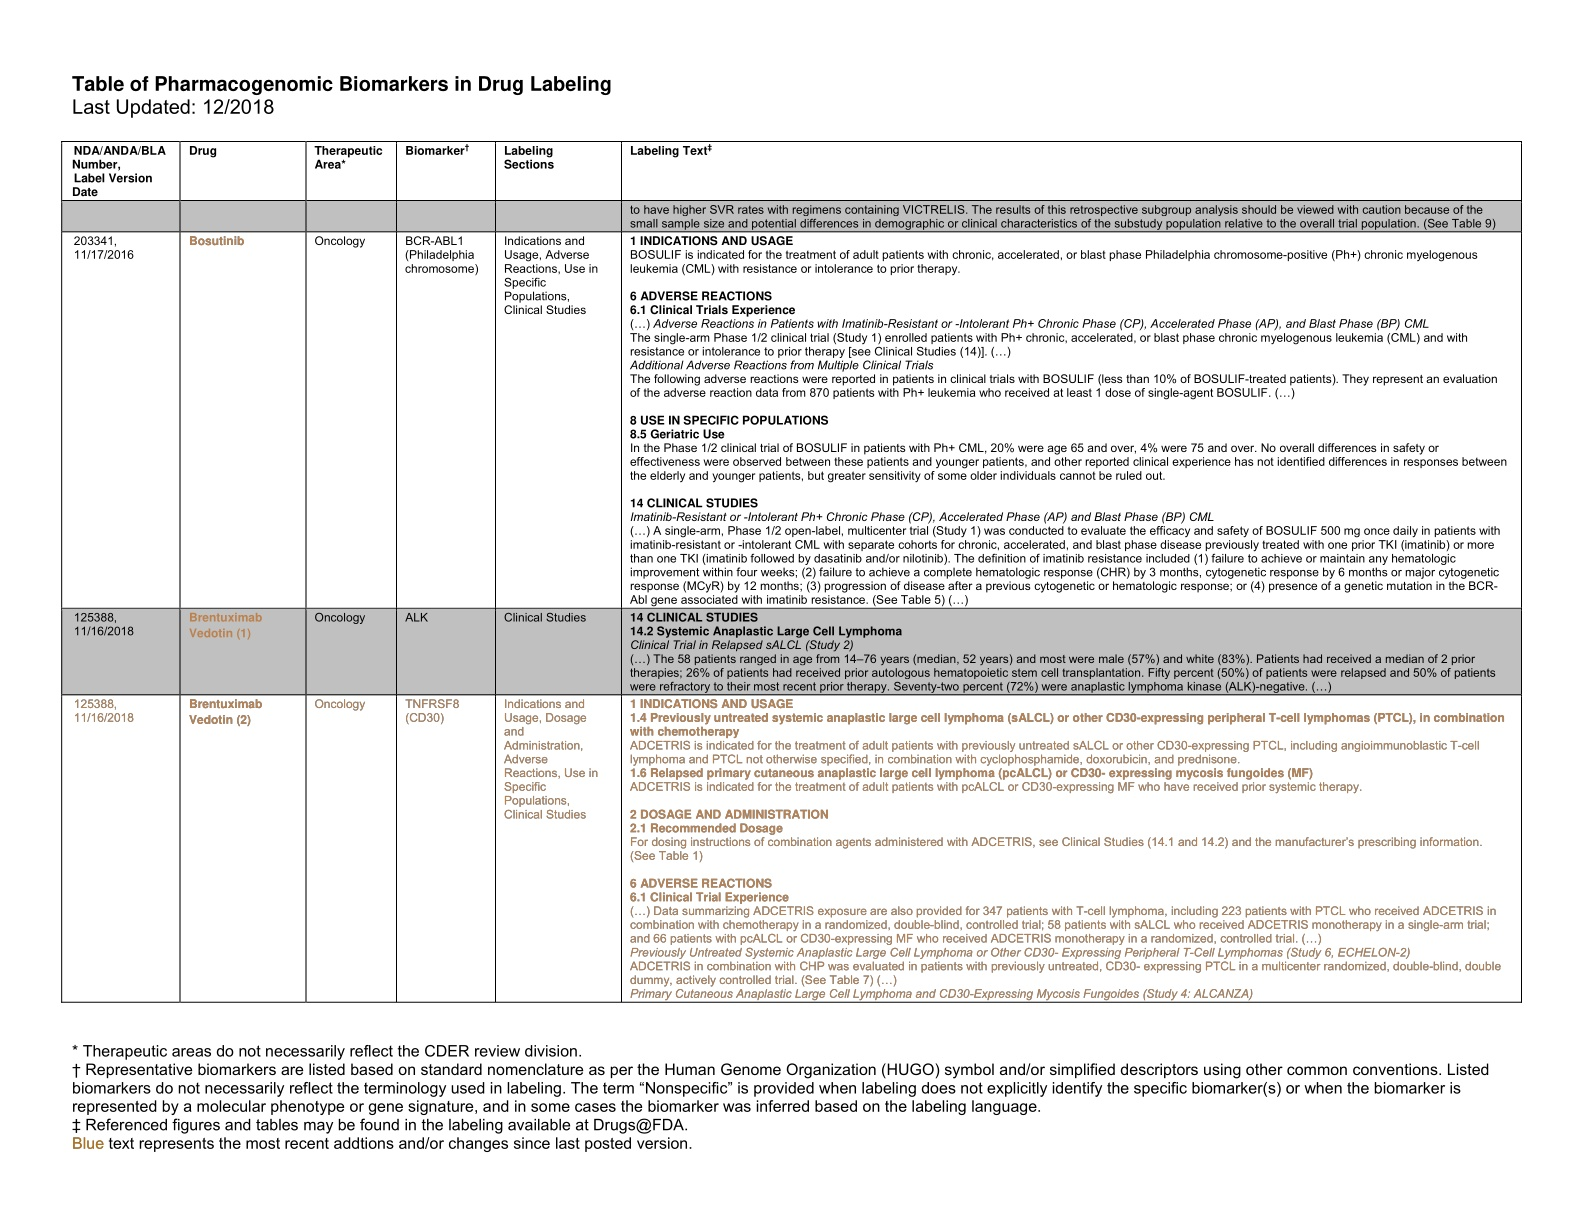full_lined: (60, 140, 1524, 1004)
